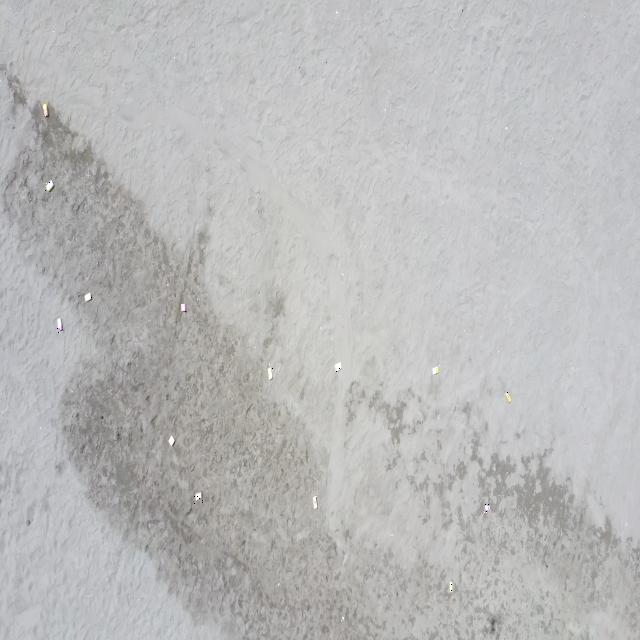Garbage: (40, 101, 48, 116), (55, 318, 62, 332), (44, 180, 52, 191), (504, 391, 511, 403), (193, 492, 200, 503), (432, 364, 439, 375), (333, 362, 340, 372), (83, 292, 91, 300), (167, 436, 173, 446), (312, 495, 316, 508), (180, 303, 186, 311), (448, 581, 452, 592), (267, 366, 270, 380), (484, 503, 488, 512), (340, 615, 344, 620), (276, 582, 279, 587)
